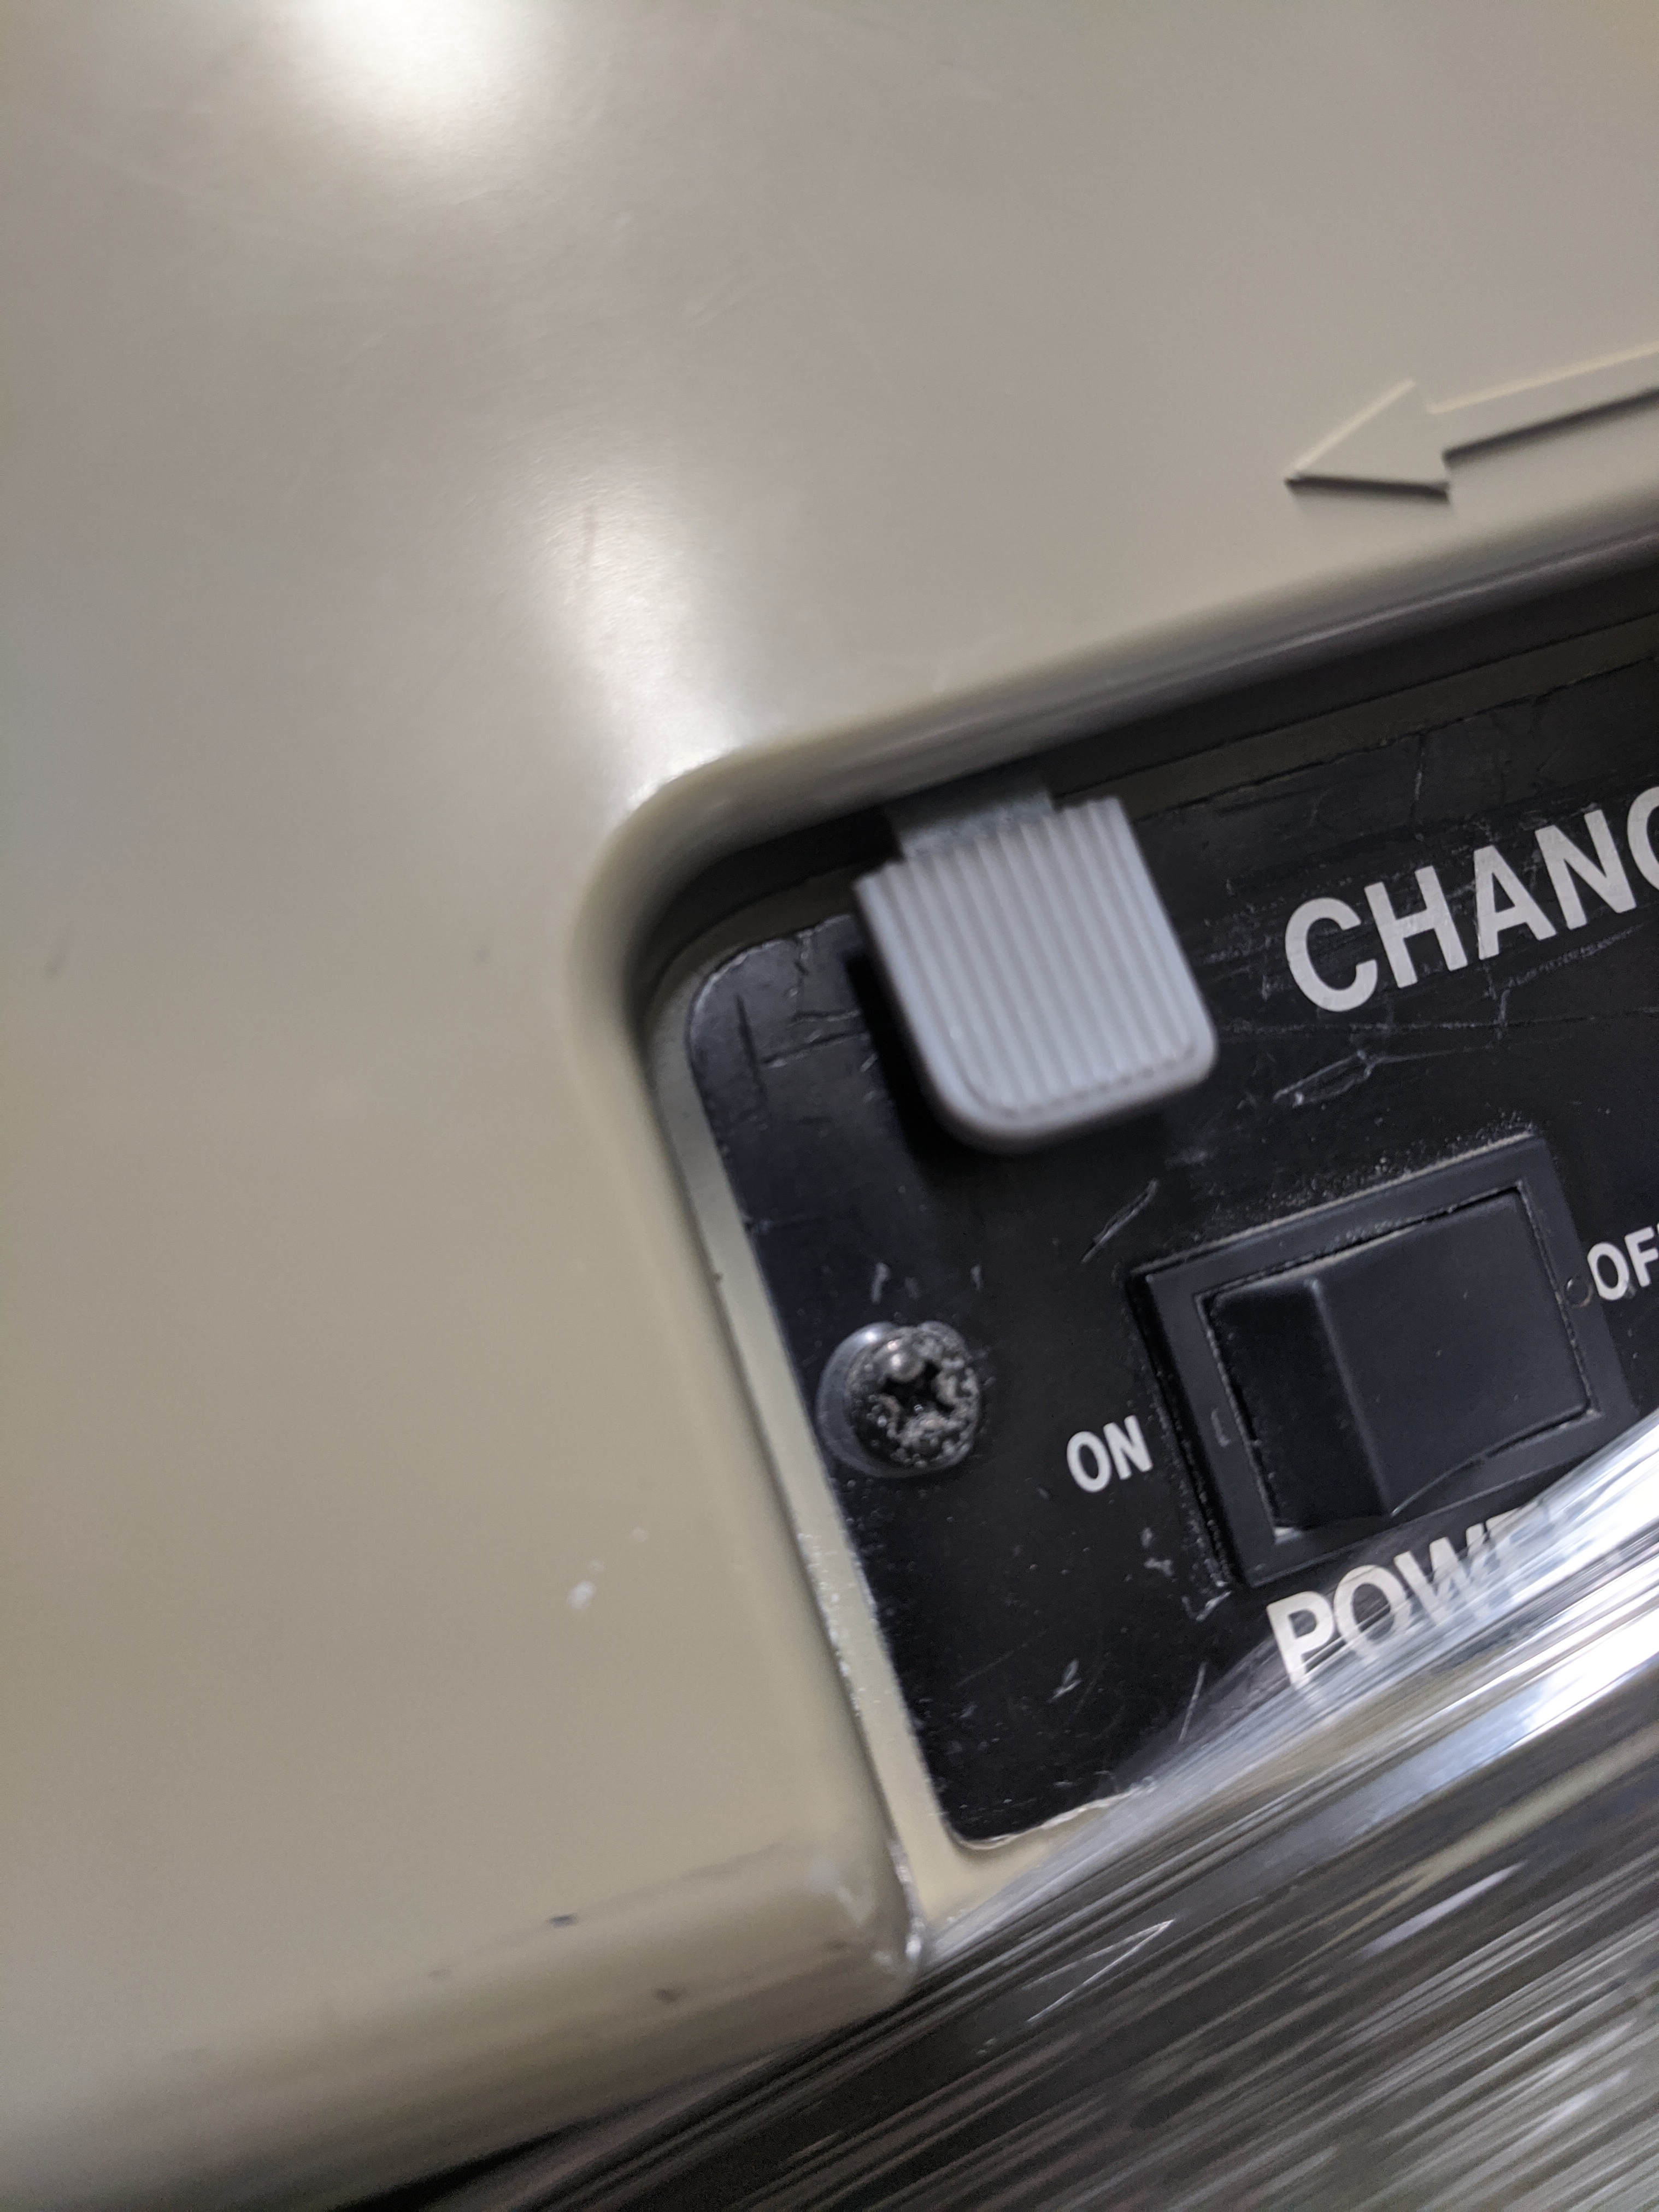cross_recessed_screw: (817, 1296, 999, 1477)
